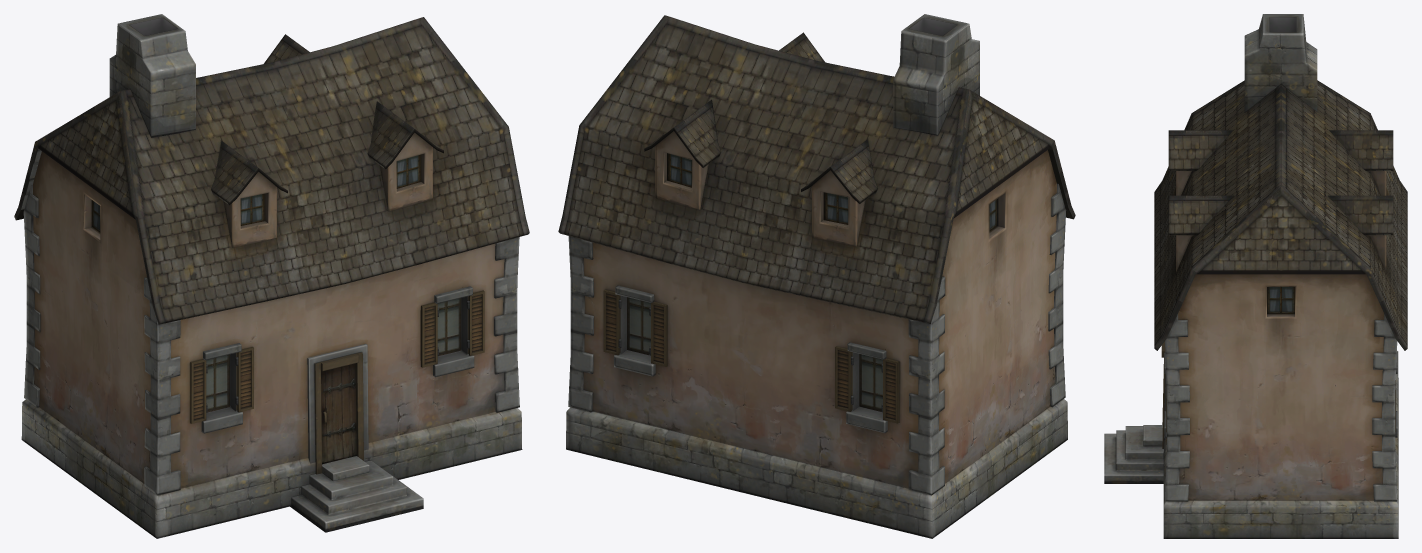
Rendered from farmhouse.fbx.
3 views of the same model, side by side, from view 1: azimuth 30°, elevation 25°; view 2: azimuth 150°, elevation 25°; view 3: azimuth 270°, elevation 25° (orthographic). The views are drawn at different scales.
Parts seen in each view (by area): view 1: GEOM0_LOD0; view 2: GEOM0_LOD0; view 3: GEOM0_LOD0.
Part boxes in pixels (left/top/right/bottom): GEOM0_LOD0: left=14, top=14, right=529, bottom=538; GEOM0_LOD0: left=558, top=14, right=1075, bottom=538; GEOM0_LOD0: left=1104, top=14, right=1407, bottom=538.
Size of what is drawn, in the model's own units: 887 by 1023 by 724.
